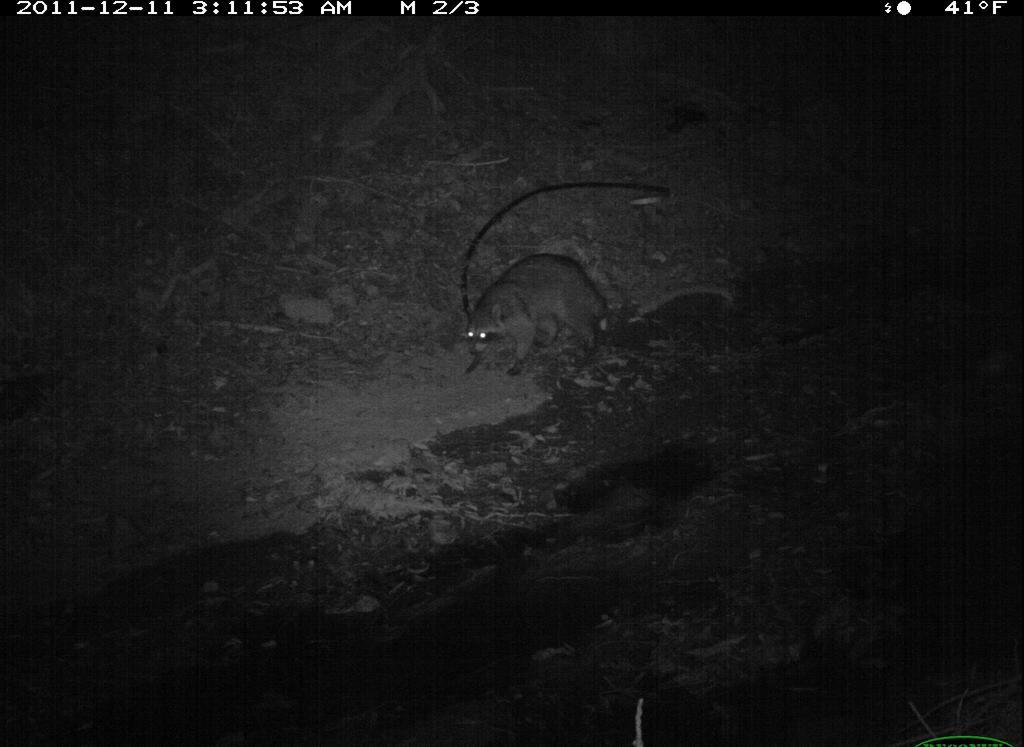raccoon: (459, 246, 623, 392)
